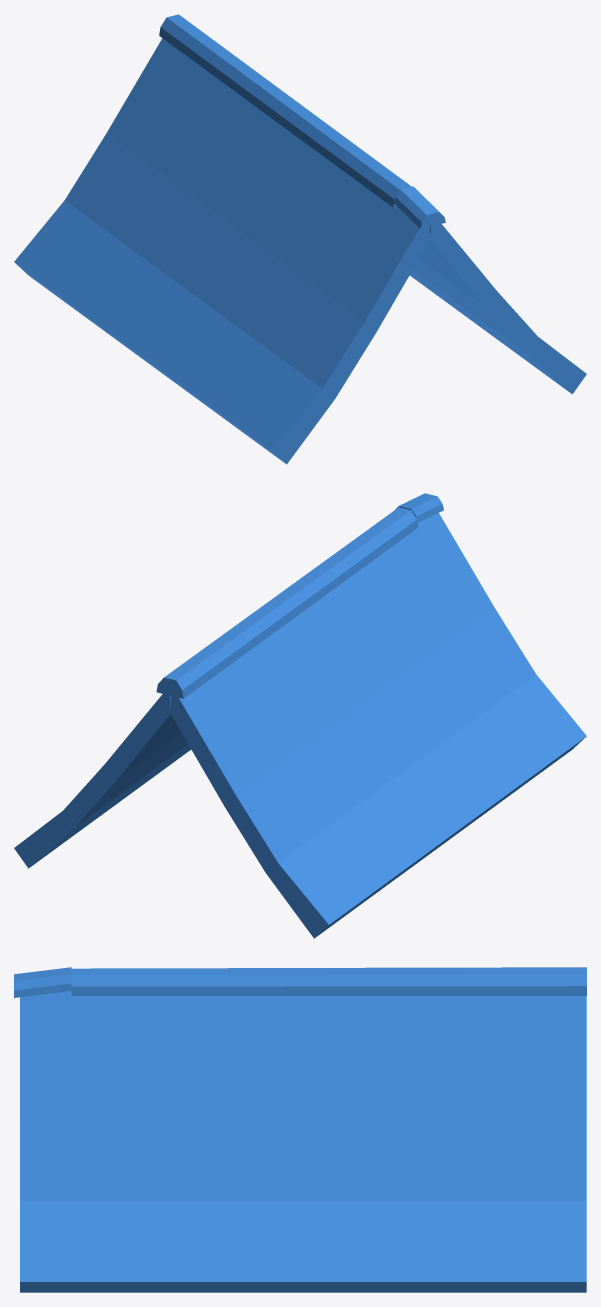
The model's file is Collision_Roof_RoundTiles_6x10.fbx.
3 views of the same model, one above another, from view 1: azimuth 30°, elevation 25°; view 2: azimuth 150°, elevation 25°; view 3: azimuth 270°, elevation 25° (orthographic). The views are drawn at different scales.
Parts seen in each view (by area): view 1: UCX_Roof_RoundTiles_6x10_01; view 2: UCX_Roof_RoundTiles_6x10_01; view 3: UCX_Roof_RoundTiles_6x10_01.
Part boxes in pixels (x1,y1,x2,y2): UCX_Roof_RoundTiles_6x10_01: (14, 14, 586, 464); UCX_Roof_RoundTiles_6x10_01: (14, 493, 586, 938); UCX_Roof_RoundTiles_6x10_01: (14, 967, 586, 1292).
Bounding box in the file's own units: 829 × 565 × 1189.
